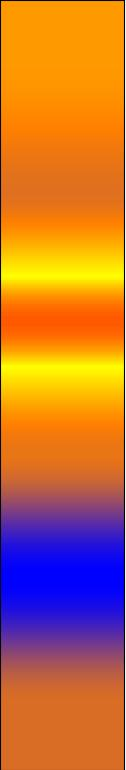Thermal Runaway: (9, 227, 113, 465), (6, 9, 120, 130)
critical: (10, 643, 114, 761), (5, 165, 119, 204), (9, 476, 116, 505)
safe: (11, 515, 115, 634)
